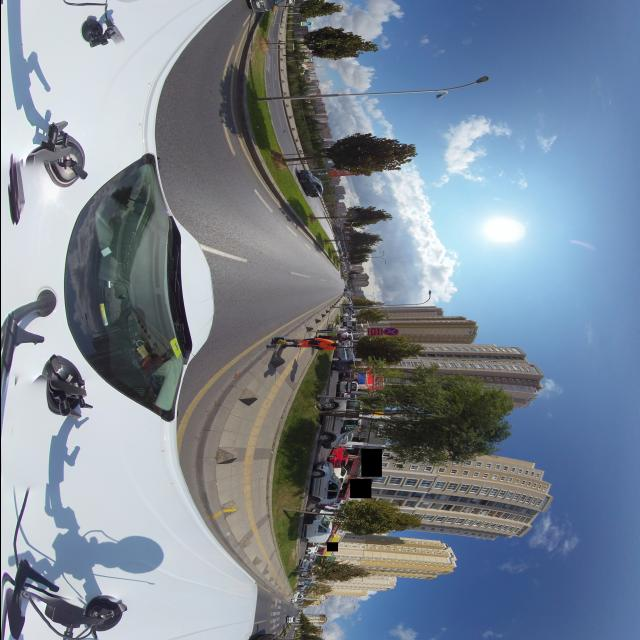SignStore: (360, 449, 381, 477), (349, 479, 370, 498), (326, 542, 337, 551)
